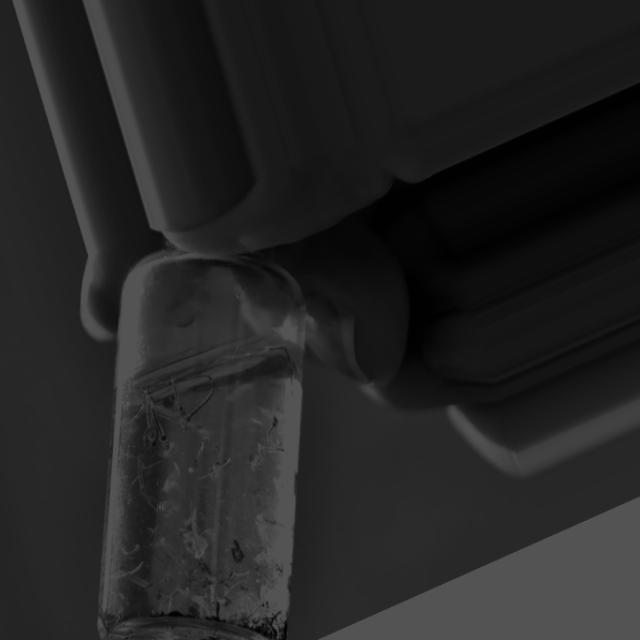larvas: (179, 377, 217, 436), (147, 395, 169, 444), (268, 346, 293, 388), (124, 406, 144, 427), (172, 380, 184, 413), (267, 414, 278, 445), (258, 445, 286, 456), (194, 441, 207, 464), (159, 410, 177, 422), (140, 493, 158, 505), (250, 454, 262, 471), (138, 464, 145, 492), (143, 429, 150, 449), (150, 425, 157, 445)
